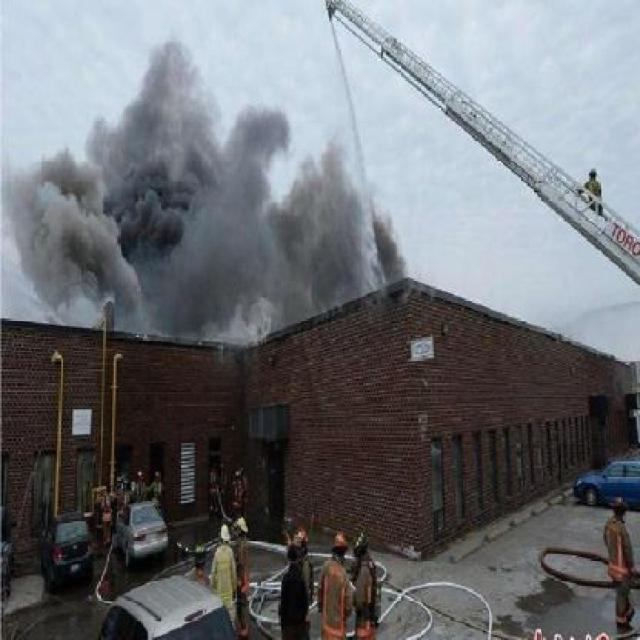Smoke: (16, 21, 392, 354)
